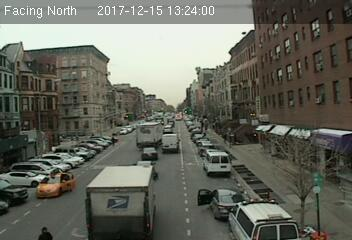car: (208, 187, 247, 220), (36, 170, 75, 198), (140, 146, 158, 161)
police: (226, 199, 303, 240)
truck: (85, 165, 157, 237), (203, 151, 232, 175), (135, 123, 161, 147), (160, 133, 180, 153)
